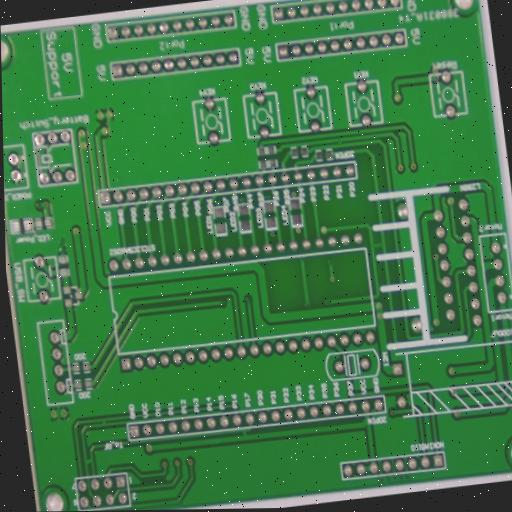short_circuit: (368, 235, 388, 257), (81, 453, 96, 469), (333, 135, 346, 151), (98, 415, 110, 430)
